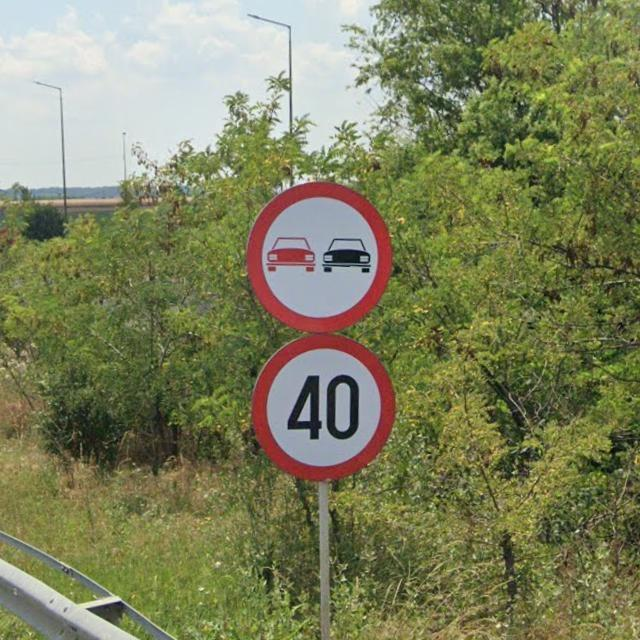forb_overtake: (245, 179, 392, 333)
forb_speed_over_40: (249, 333, 397, 481)
